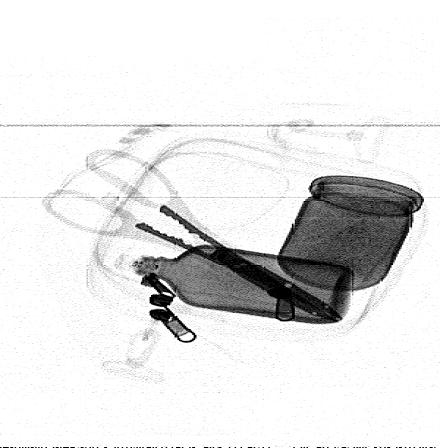Scissors: (42, 147, 345, 322)
